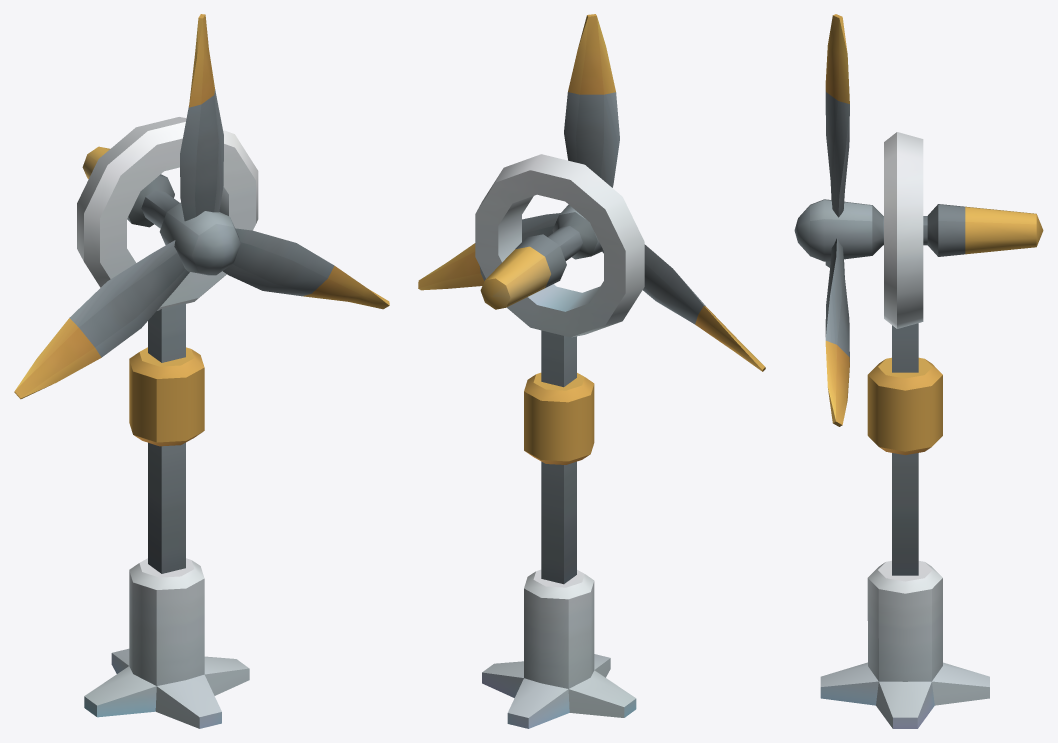
The model's file is windturbine_tall.glb.
The picture shows the model from 3 angles, left to right: view 1: azimuth 30°, elevation 25°; view 2: azimuth 150°, elevation 25°; view 3: azimuth 270°, elevation 25°; orthographic projection. The views are drawn at different scales.
Visible parts, largest first — view 1: windturbine_tall_fan, Cube.15108; view 2: windturbine_tall_fan, Cube.15108; view 3: Cube.15108, windturbine_tall_fan.
Boxes of the visible parts, bbox=[...] form: windturbine_tall_fan: bbox=[14, 14, 389, 399]; Cube.15108: bbox=[84, 303, 249, 728]; windturbine_tall_fan: bbox=[418, 14, 765, 371]; Cube.15108: bbox=[482, 330, 636, 728]; Cube.15108: bbox=[820, 323, 989, 728]; windturbine_tall_fan: bbox=[794, 14, 1043, 426].
Size of the model in its own units: 1.67 by 3 by 0.9998.
1 material, 1 textured.
